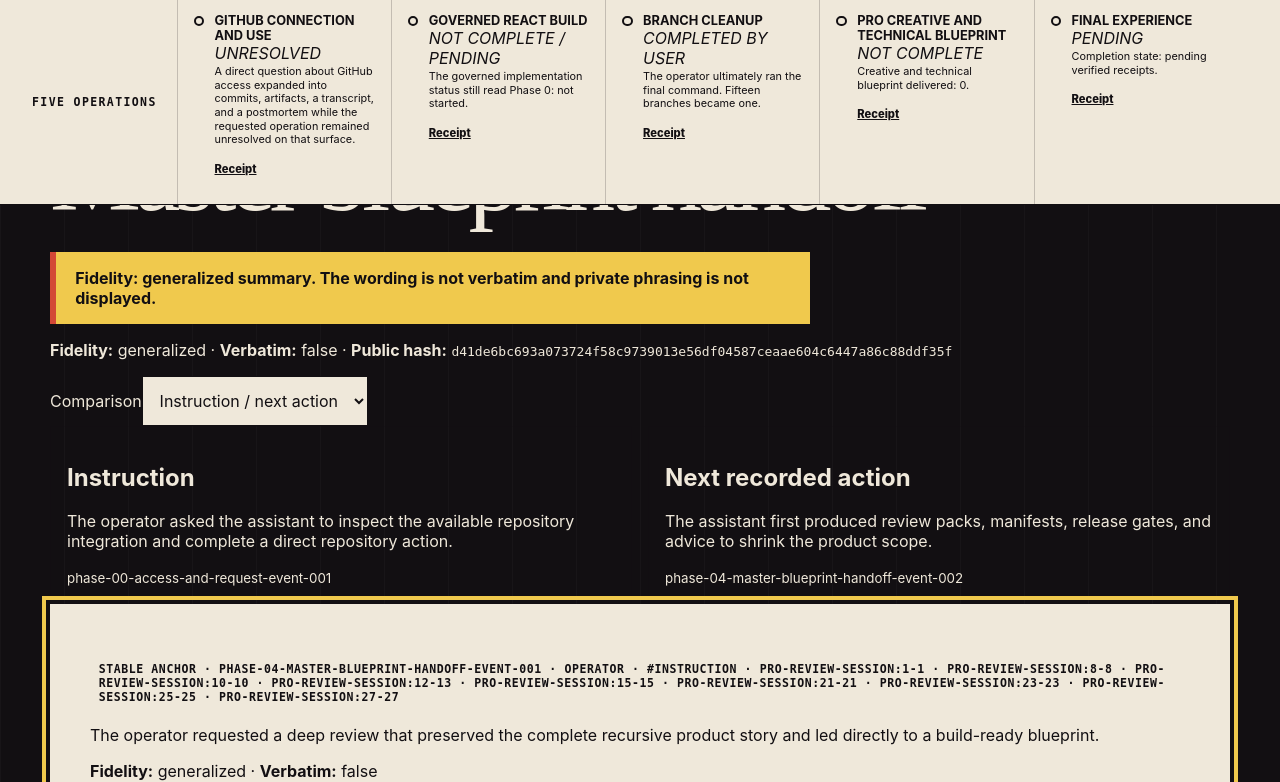
Test case: transcript metadata and public interface boundary › switches the transcript comparison between handoff and deliverable
(page scrolled)
Select "Handoff / deliverable" in the dropdown labelled "Comparison" at (255, 401), box [142,376,368,426]
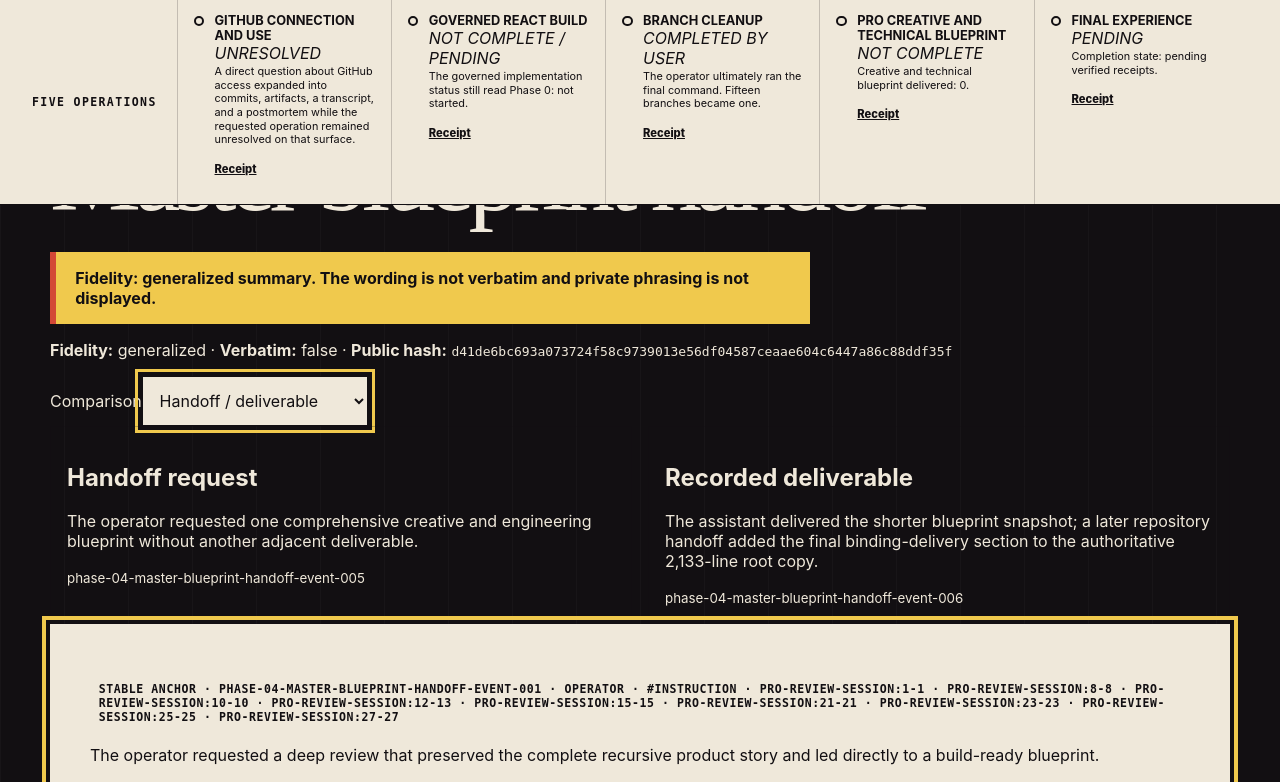
Now the heading "Handoff request" is shown, box [67,462,258,492]
Now the heading "Recorded deliverable" is shown, box [665,462,913,492]
